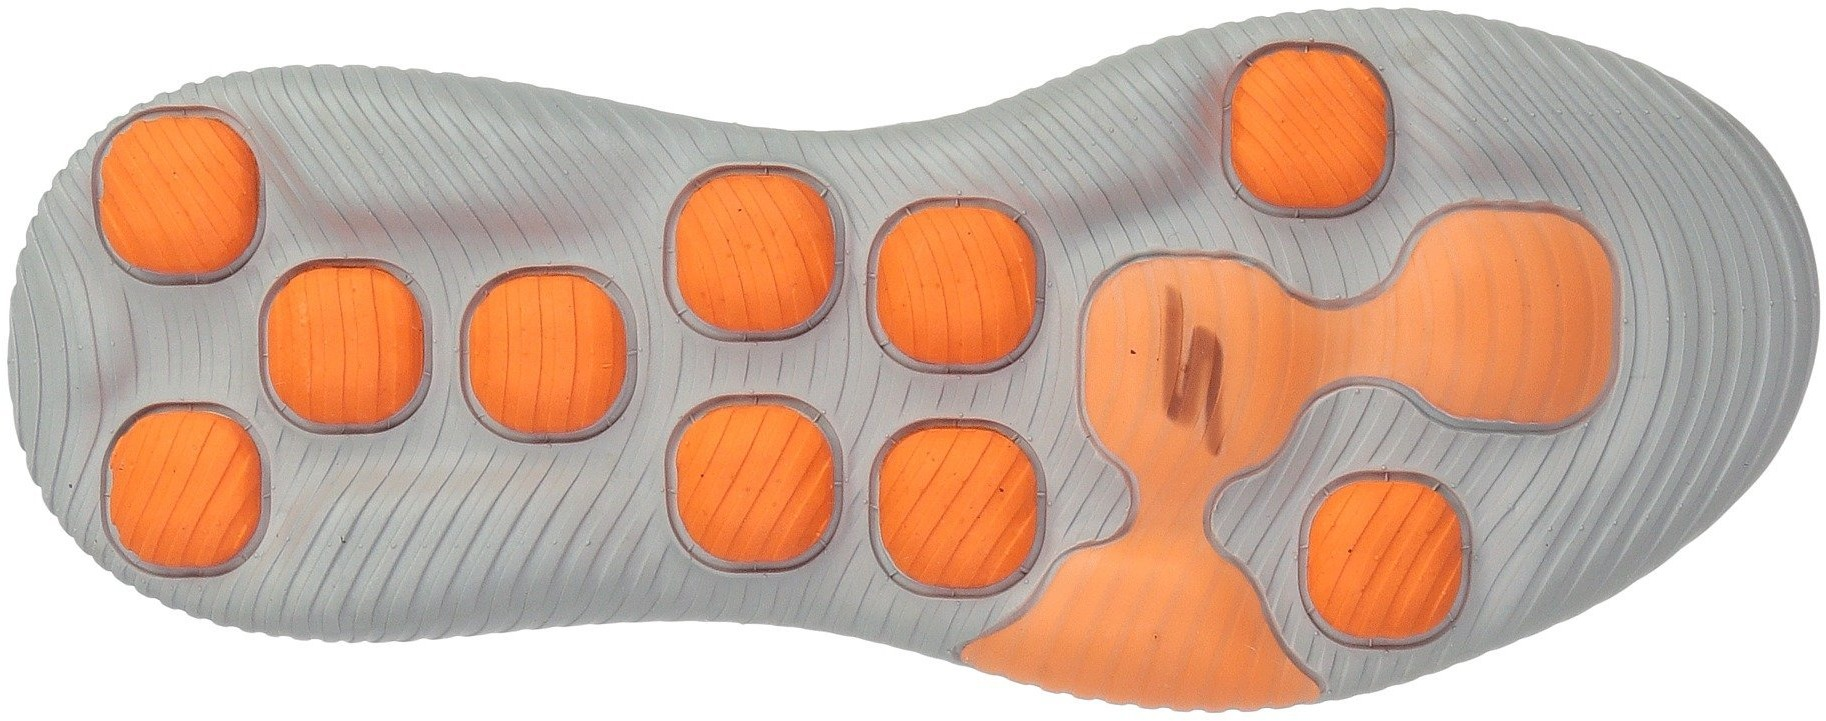line: (410, 195, 742, 518), (785, 214, 1070, 519), (1411, 116, 1632, 370), (1626, 227, 1813, 415)
